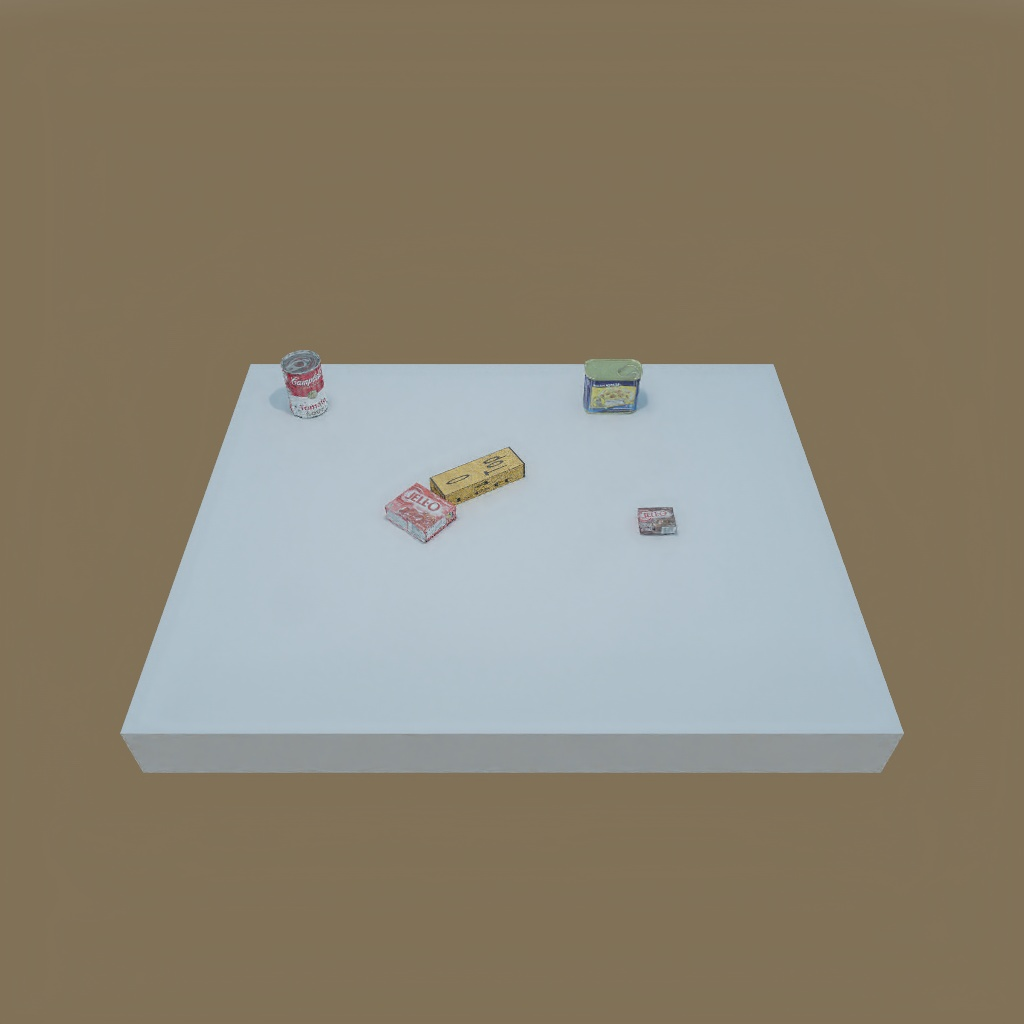gelatin_box: (386, 487, 457, 543)
jenga: (430, 447, 525, 506)
potted_meat_can: (582, 361, 644, 416)
pudding_box: (633, 503, 684, 538)
tomato_soup_can: (278, 353, 331, 418)
